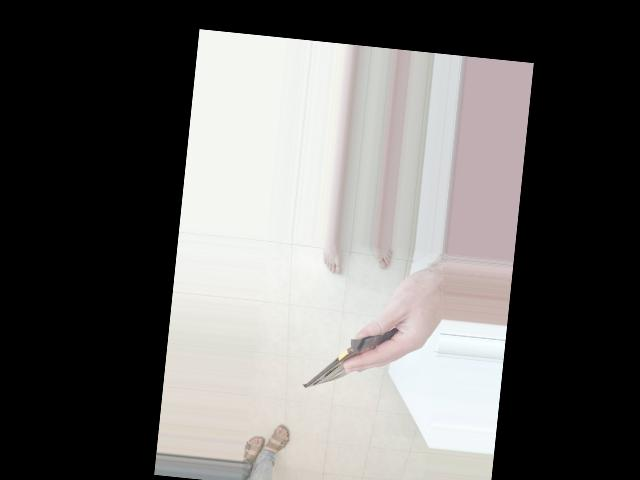chocolate: (259, 330, 346, 438)
